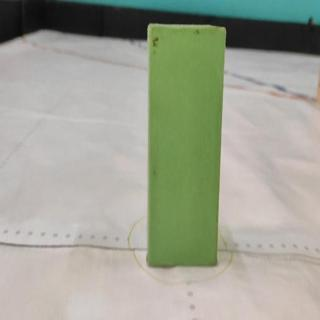greenbox: (149, 24, 219, 267)
